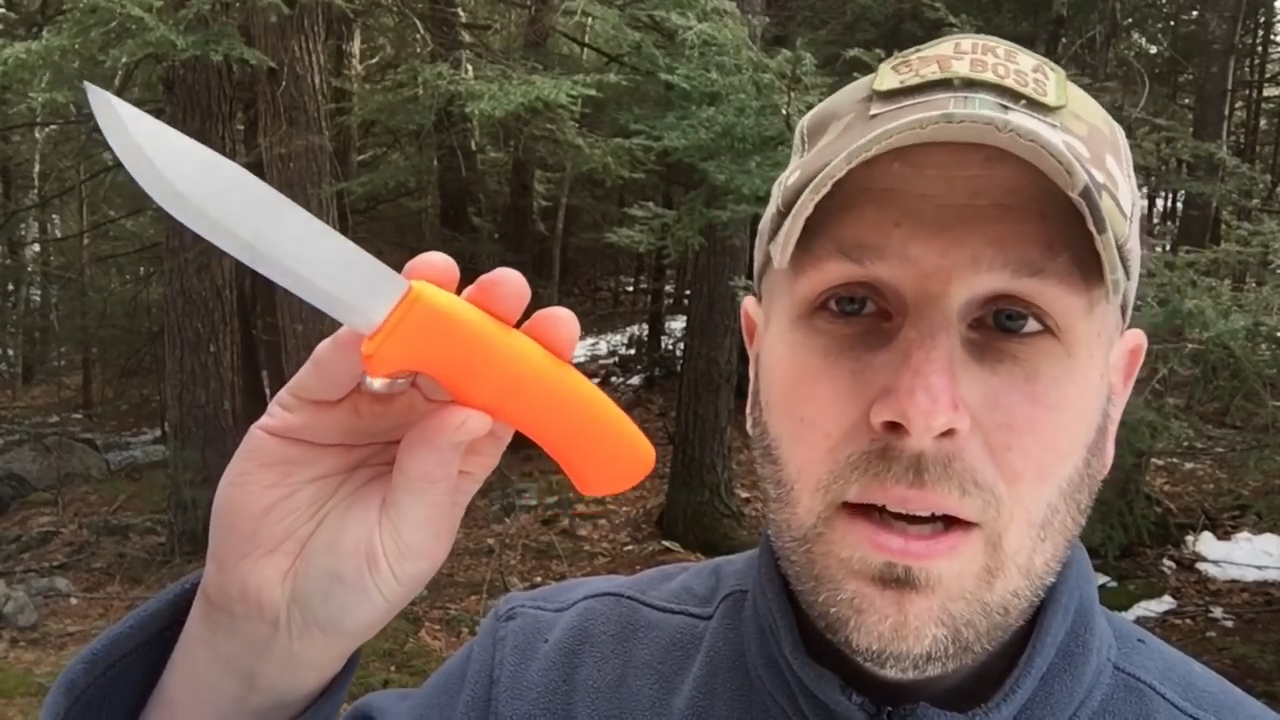knife: (75, 73, 493, 434)
